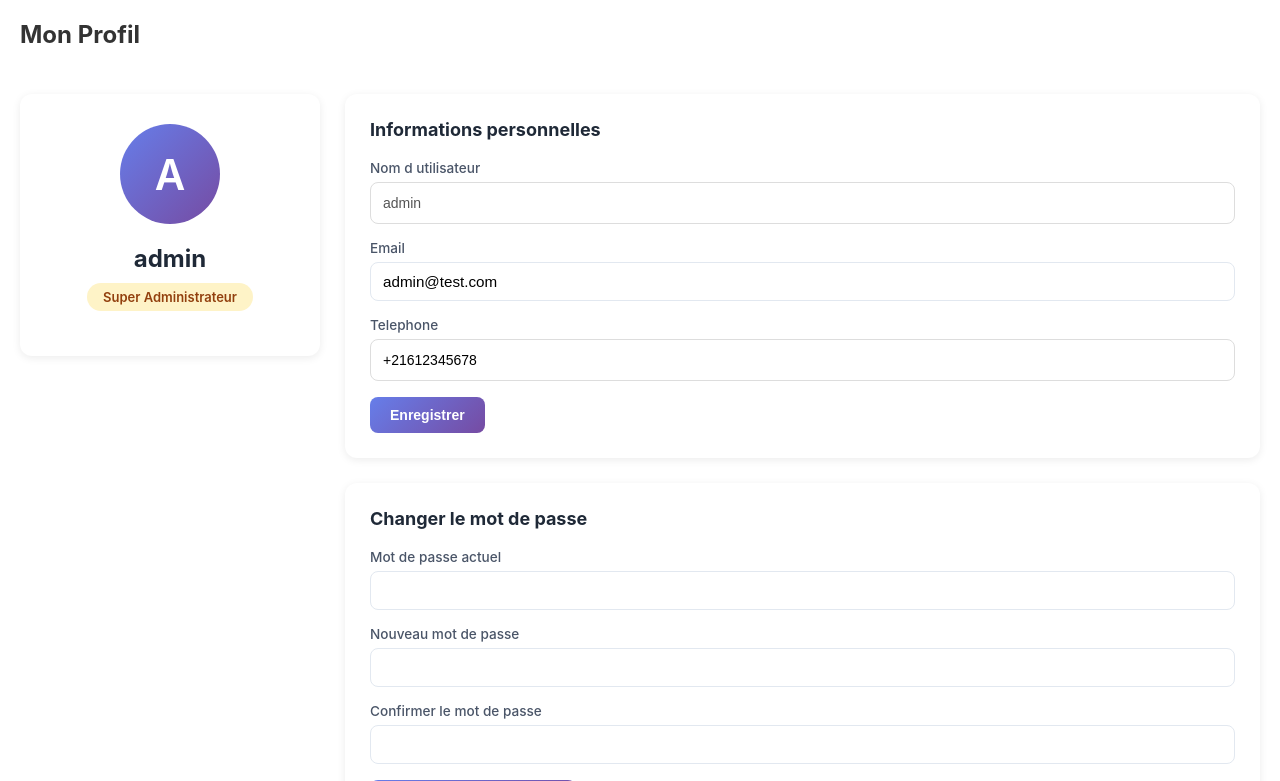
Test: Profile › handles change password error
The image size is (1280, 781).
Check: the heading "Informations personnelles" is shown, box x1=370 y1=119 x2=601 y2=140
Type "wrongold" into the password field below "Mot de passe actuel". click: (802, 590)
box: x1=370 y1=571 x2=1235 y2=610
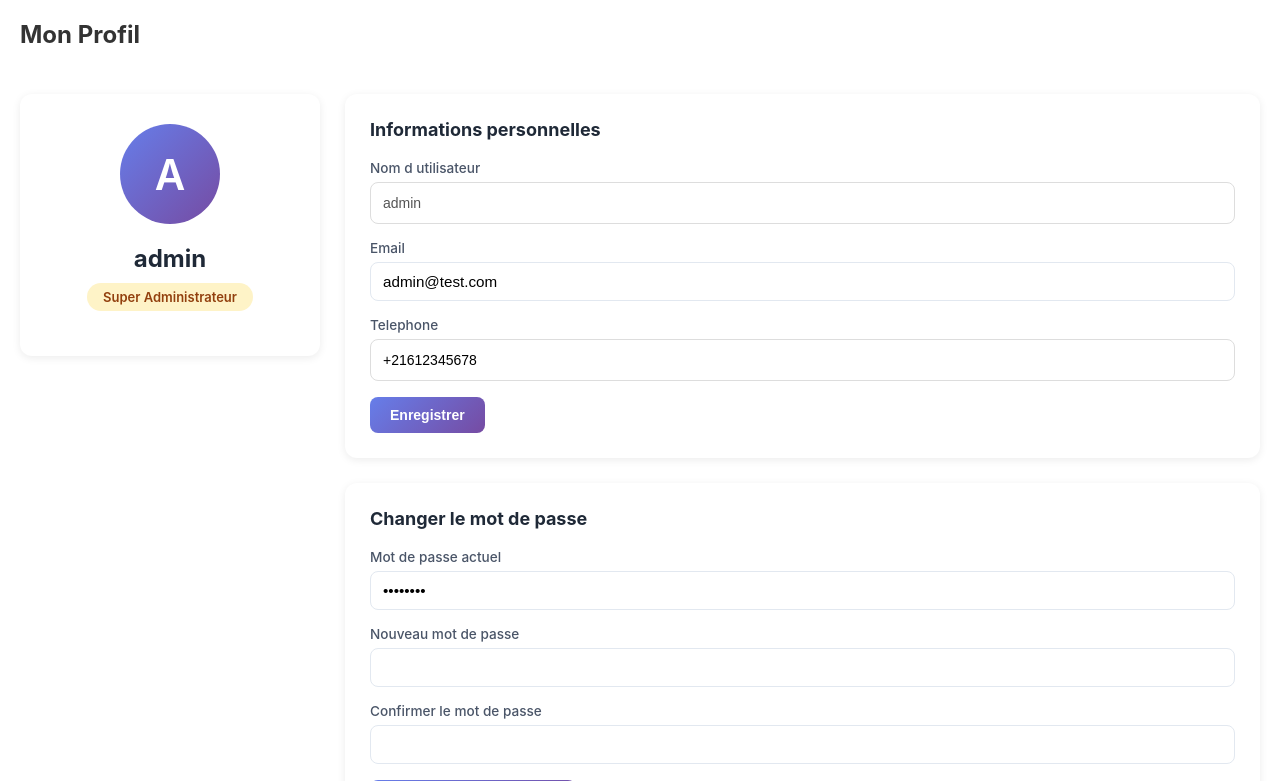
Type "newpass123" into the password field below "Nouveau mot de passe". click: (802, 668)
box: x1=370 y1=648 x2=1235 y2=687
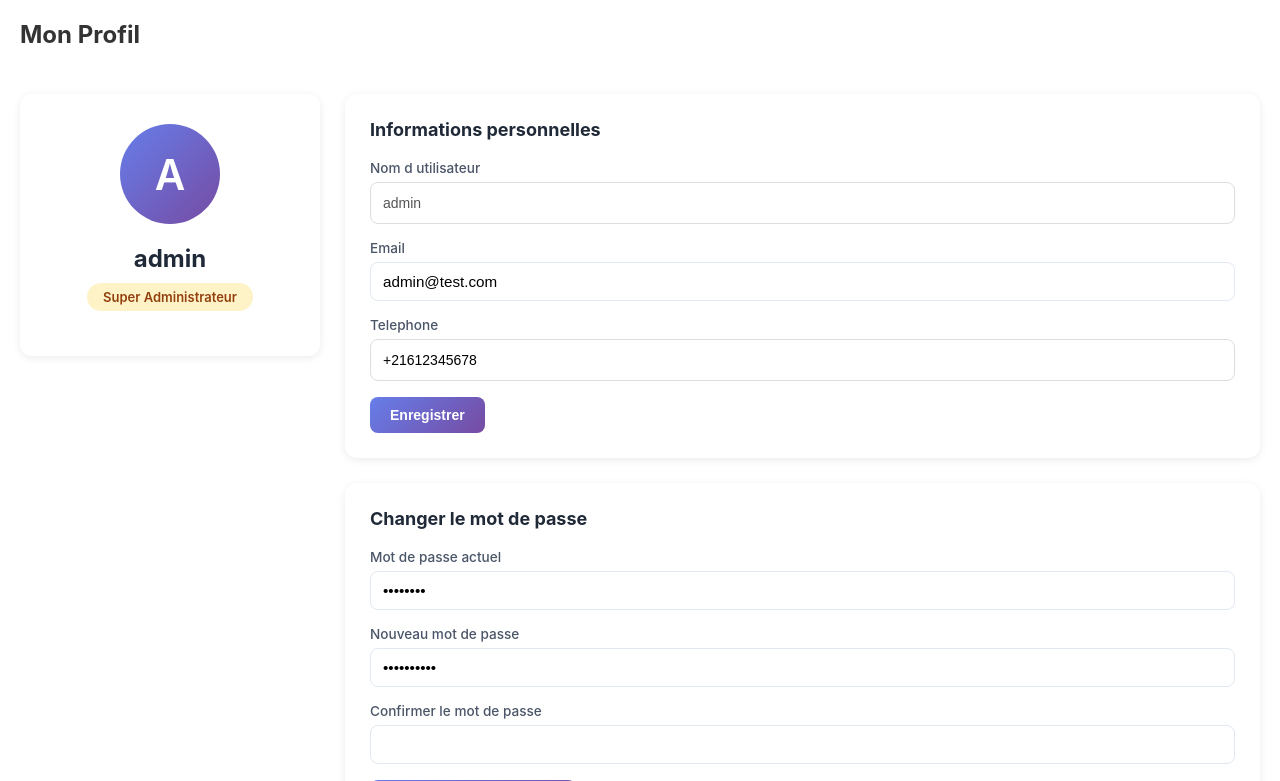
Type "newpass123" into the password field below "Confirmer le mot de passe". click: (802, 744)
box: x1=370 y1=725 x2=1235 y2=764
(page scrolled)
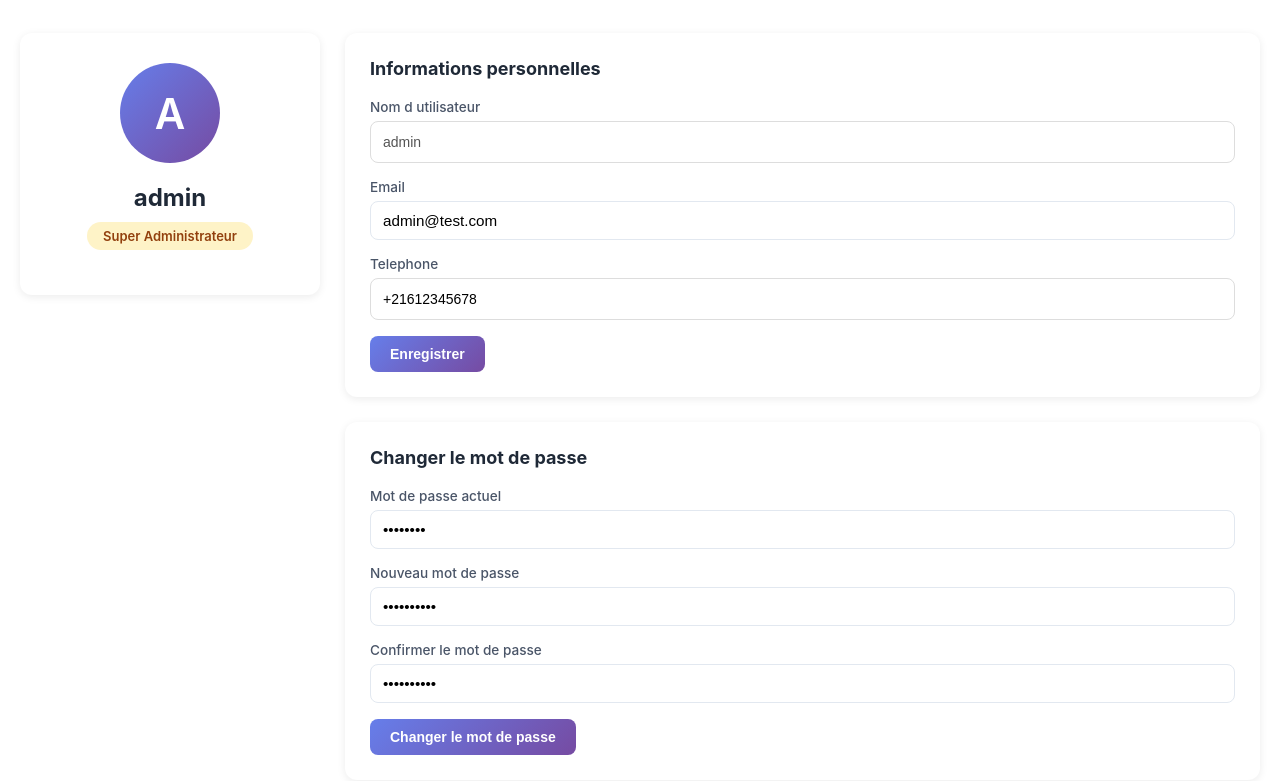
Click the button "Changer le mot de passe". click: (473, 737)
box: x1=370 y1=719 x2=576 y2=755
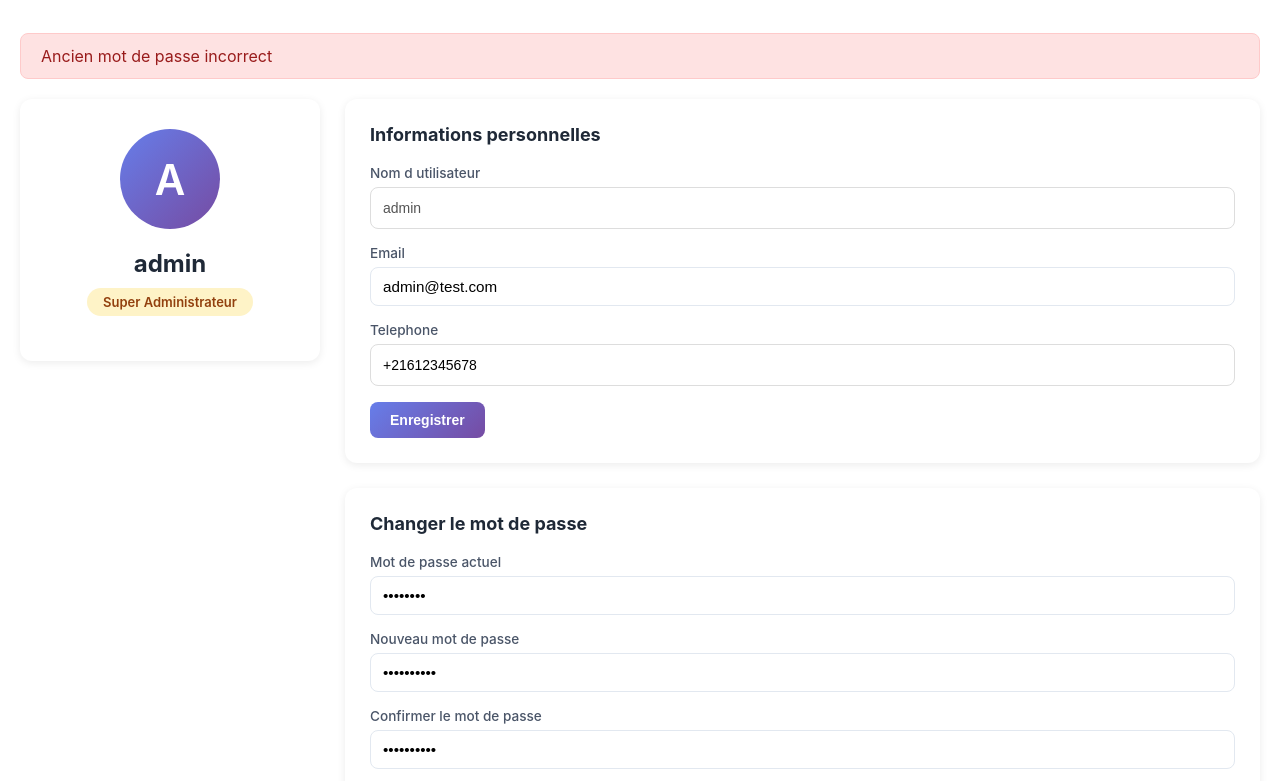
Check: the text "Ancien mot de passe incorrect" is shown, box x1=20 y1=33 x2=1260 y2=79
